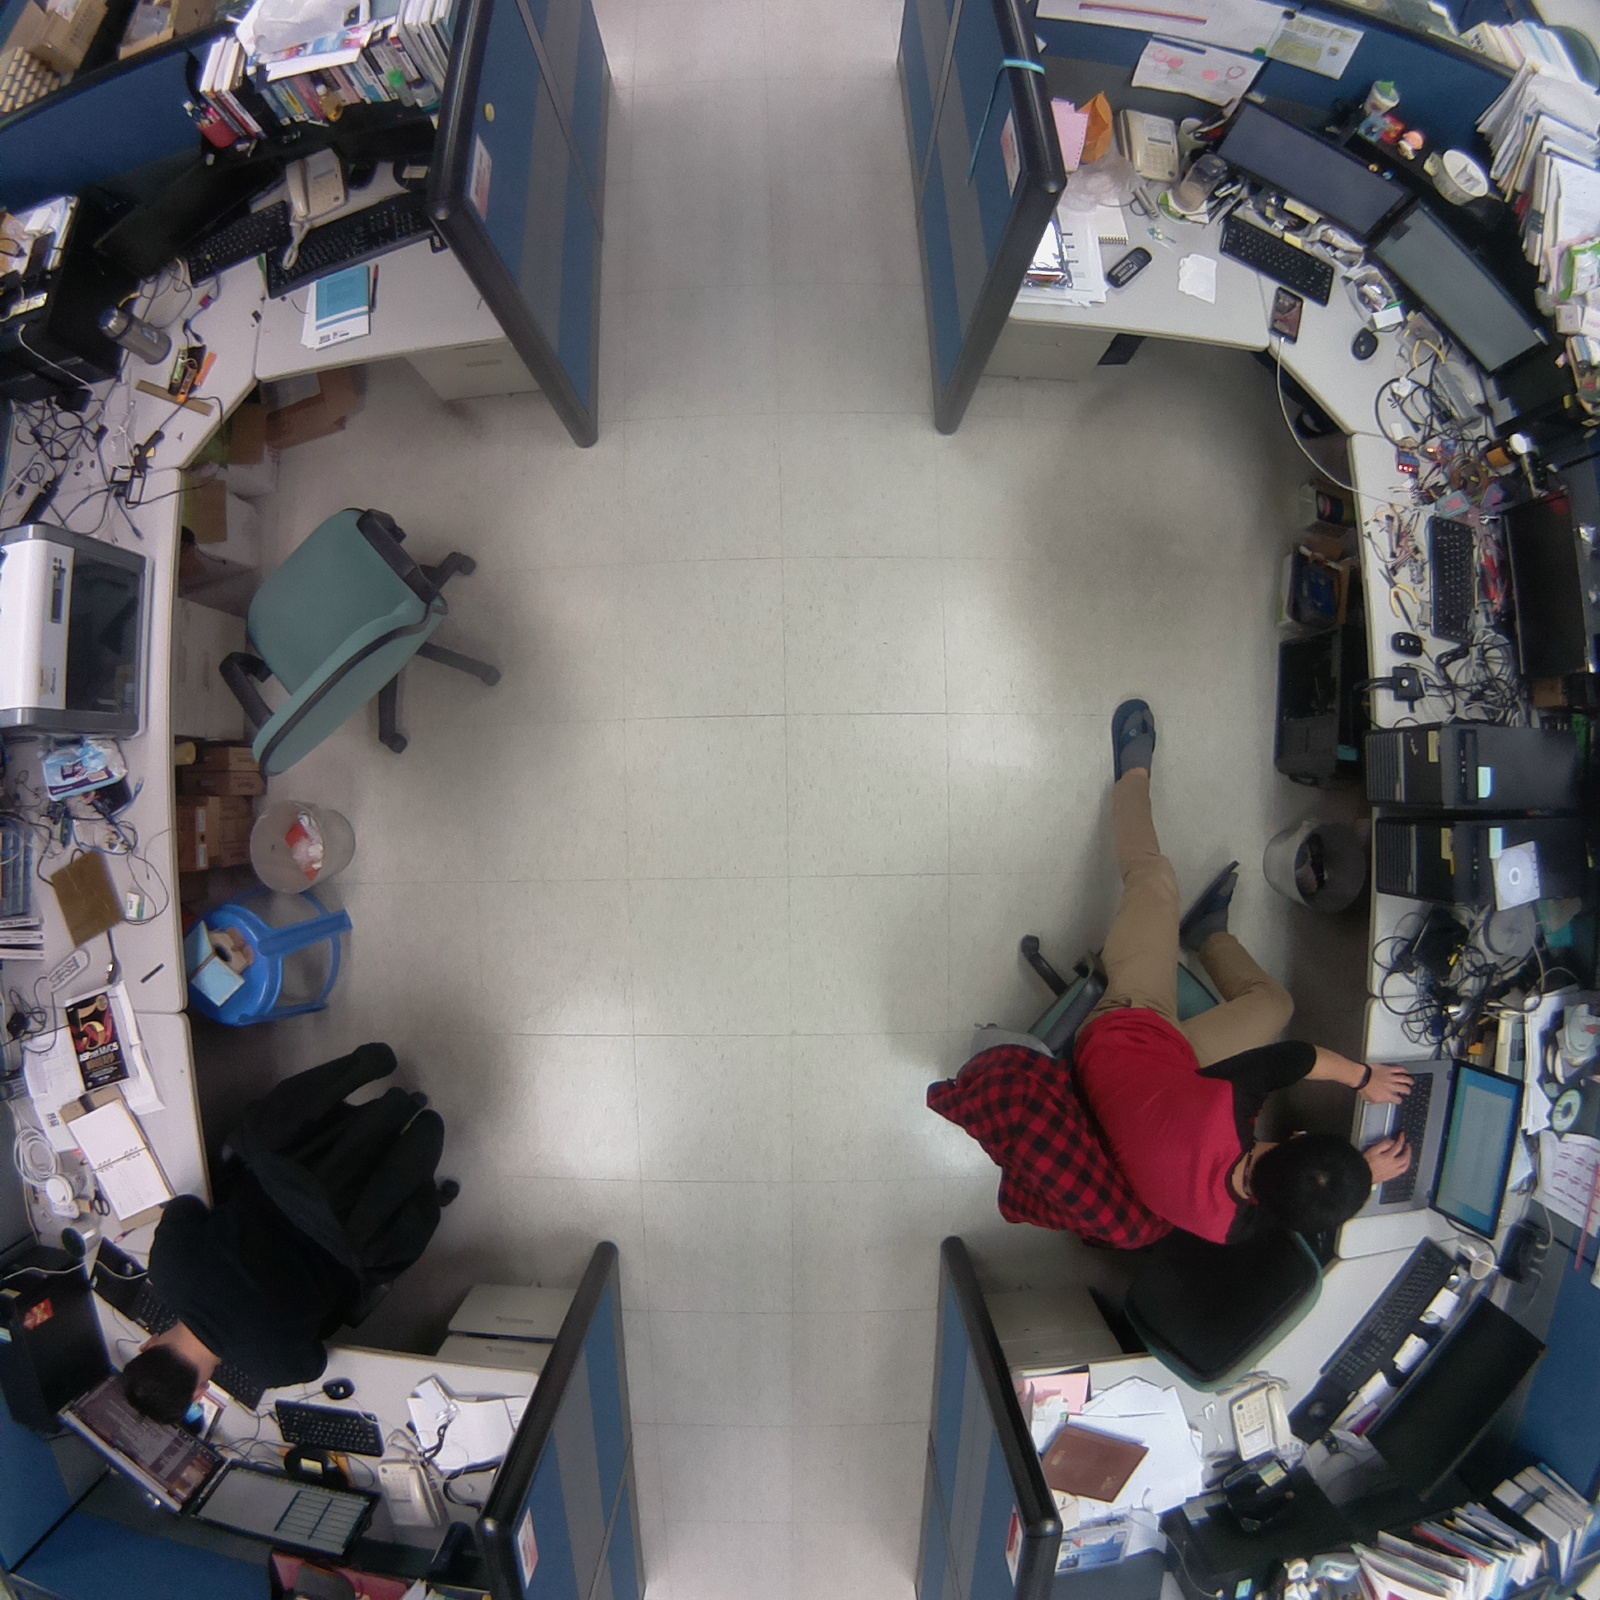chair: (206, 470, 547, 801), (1086, 1206, 1342, 1417)
head: (1238, 1121, 1383, 1236), (112, 1319, 219, 1434)
sitting: (912, 763, 1417, 1258), (109, 1027, 509, 1434)
